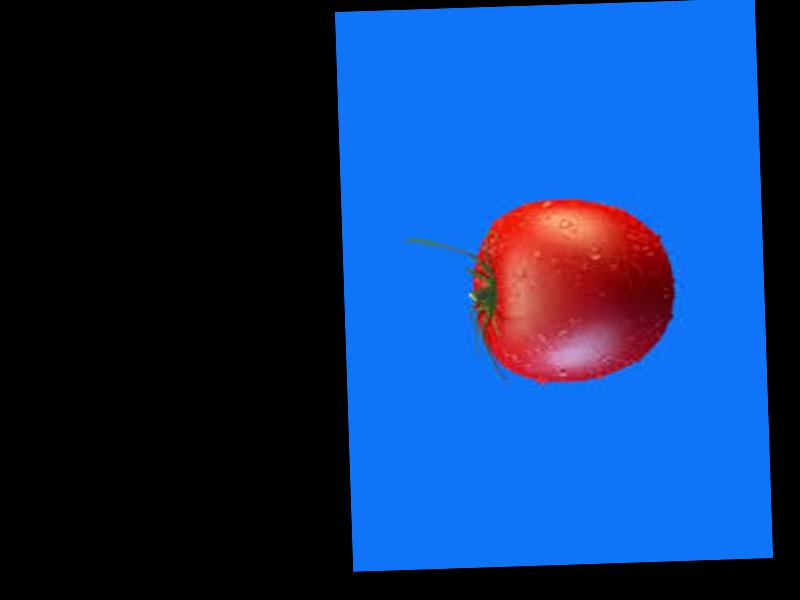Tomato: (469, 195, 677, 386)
